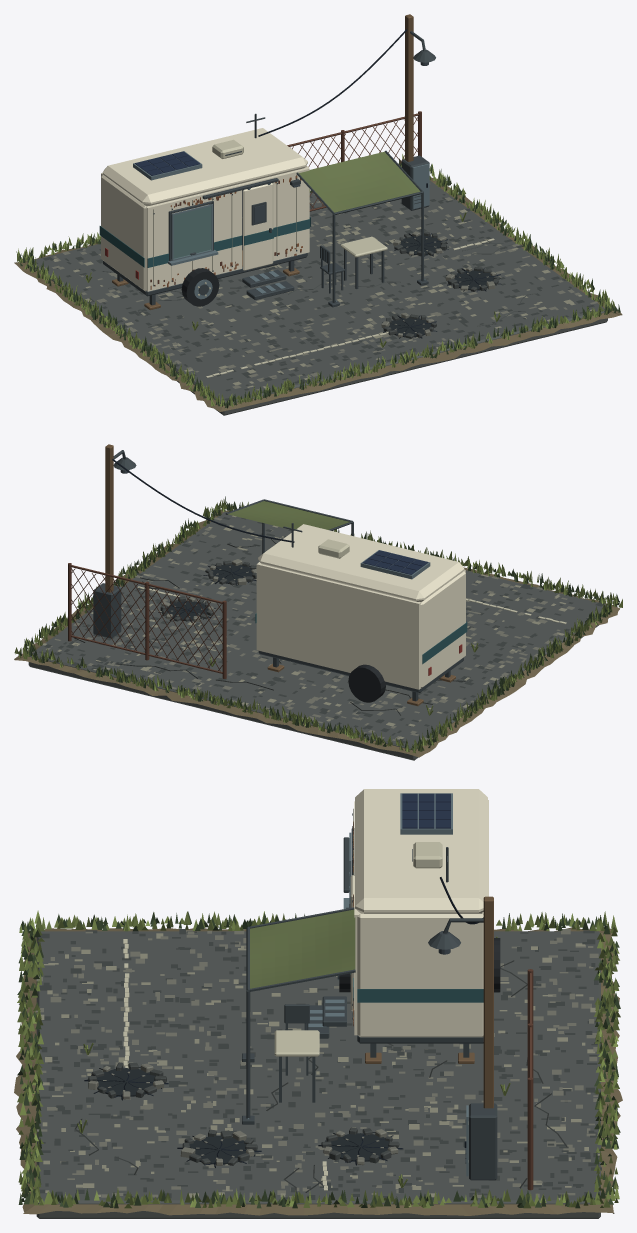
The model's file is camp.glb.
The picture shows the model from 3 angles, top to bottom: view 1: azimuth 30°, elevation 25°; view 2: azimuth 150°, elevation 25°; view 3: azimuth 270°, elevation 25°; orthographic projection. The views are drawn at different scales.
Visible parts, largest first — view 1: Ground, Static_cream, Static_asphalt_dark, Static_steel_dark, SoilFringe, Static_grass, CanopyCloth, RoadGrit_stone, Fringe_grass_dark, Fringe_grass_light, Static_grit, DoorPanel (+10 smaller); view 2: Ground, Static_cream, Static_asphalt_dark, Static_grass, SoilFringe, Static_rust_dark, Fringe_grass_dark, RoadGrit_stone, Static_steel_dark, Fringe_grass_light, CanopyCloth, Static_grit (+9 smaller); view 3: Ground, Static_cream, Static_asphalt_dark, Static_grass, SoilFringe, RoadGrit_stone, Static_steel_dark, Fringe_grass_dark, CanopyCloth, Fringe_grass_light, Static_grit, Static_wood (+10 smaller).
Part boxes in pixels (box(x1,y1,x2,y2)): Ground: box(33, 180, 607, 415); Static_cream: box(101, 128, 309, 291); Static_asphalt_dark: box(33, 194, 596, 400); Static_steel_dark: box(103, 31, 435, 307); SoilFringe: box(14, 176, 622, 411); Static_grass: box(16, 160, 614, 405); CanopyCloth: box(299, 151, 420, 212); RoadGrit_stone: box(38, 183, 597, 390); Fringe_grass_dark: box(19, 158, 620, 408); Fringe_grass_light: box(18, 154, 610, 406); Static_grit: box(53, 174, 593, 389); DoorPanel: box(243, 183, 273, 270); Ground: box(28, 511, 607, 760); Static_cream: box(256, 524, 465, 689); Static_asphalt_dark: box(32, 517, 604, 746); Static_grass: box(14, 499, 616, 751); SoilFringe: box(14, 510, 619, 757); Static_rust_dark: box(68, 563, 226, 678); Fringe_grass_dark: box(18, 496, 619, 750); RoadGrit_stone: box(45, 517, 588, 740); Static_steel_dark: box(93, 450, 463, 701); Fringe_grass_light: box(23, 502, 622, 753); CanopyCloth: box(228, 501, 349, 529); Static_grit: box(42, 515, 567, 739); Ground: box(36, 931, 600, 1218); Static_cream: box(354, 789, 488, 1037); Static_asphalt_dark: box(38, 929, 601, 1201); Static_grass: box(17, 911, 620, 1208); SoilFringe: box(14, 927, 622, 1215); RoadGrit_stone: box(35, 929, 598, 1200); Static_steel_dark: box(242, 813, 497, 1180); Fringe_grass_dark: box(17, 911, 620, 1208); CanopyCloth: box(250, 909, 355, 988); Fringe_grass_light: box(18, 910, 619, 1208); Static_grit: box(41, 808, 599, 1200); Static_wood: box(365, 896, 493, 1108).
Bounding box in the file's own units: 10.67 × 5.18 × 9.49.
